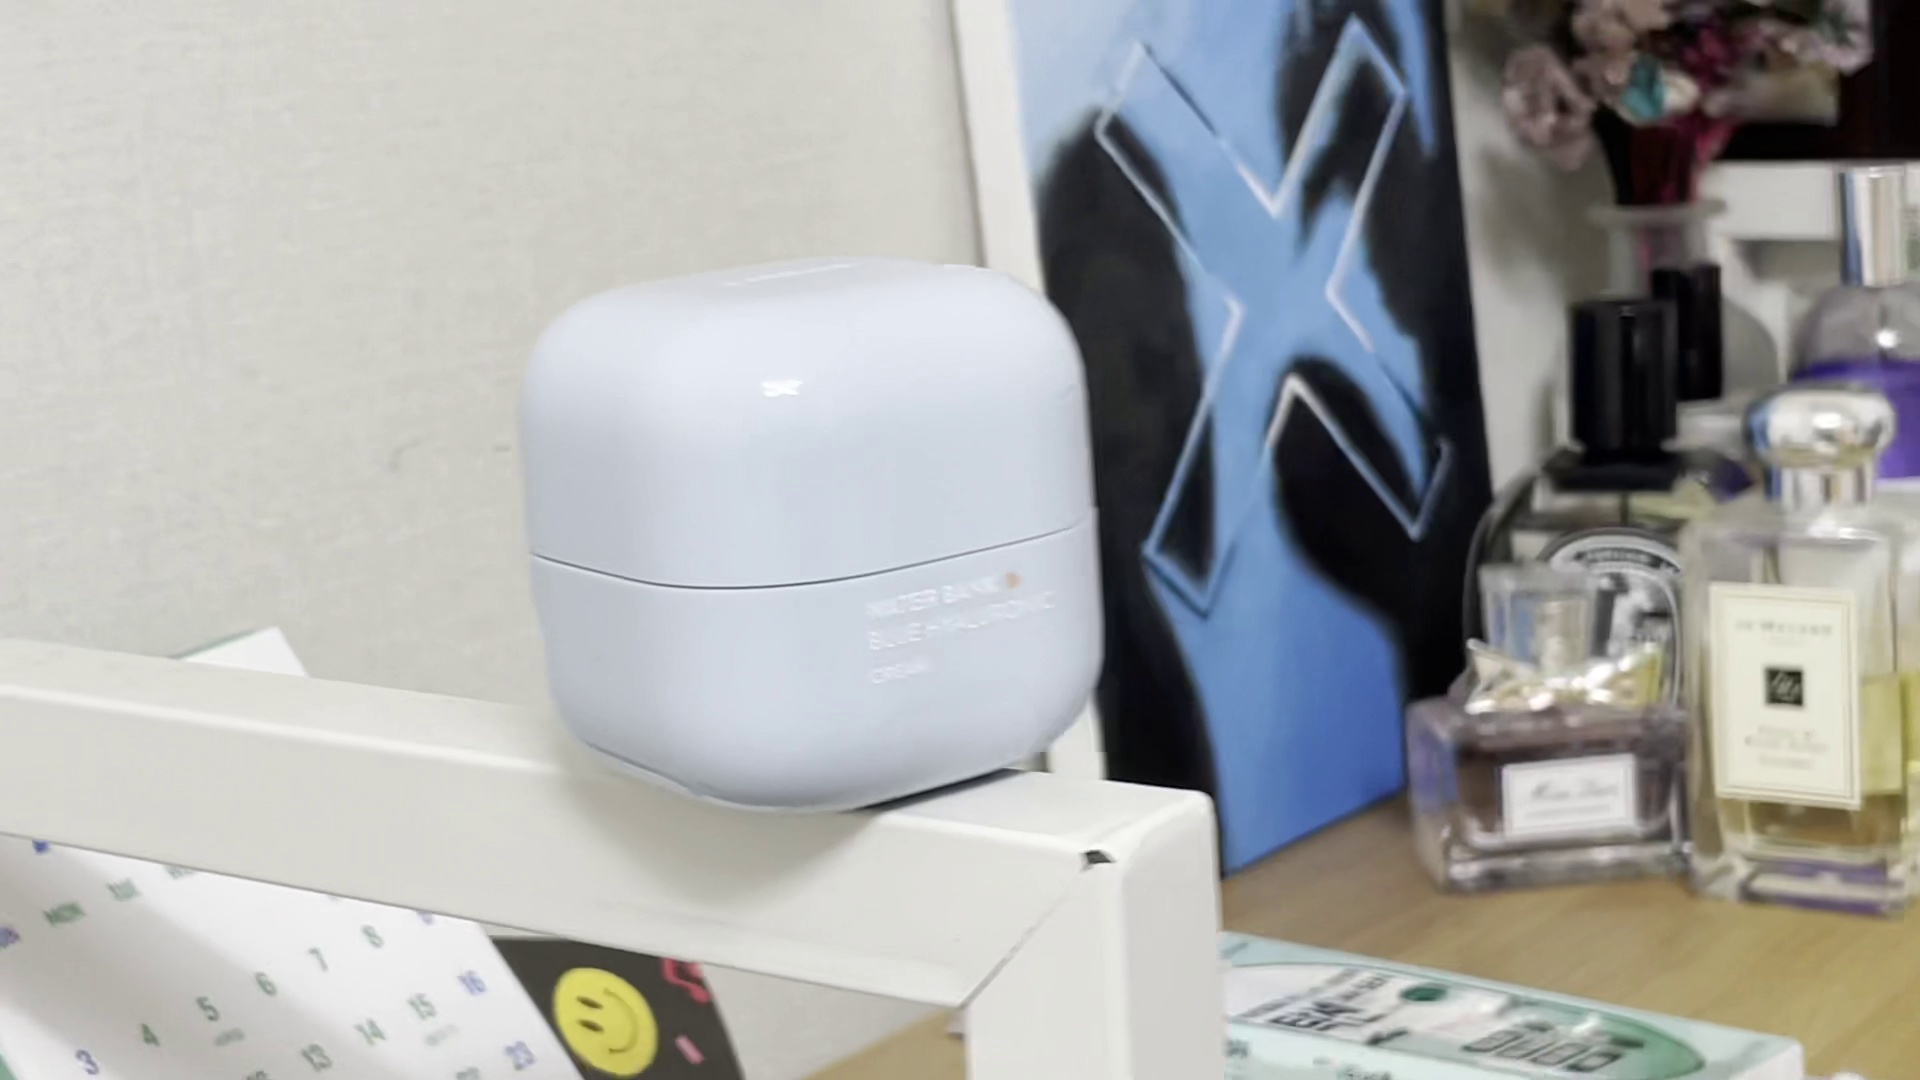cream: (512, 255, 1114, 822)
